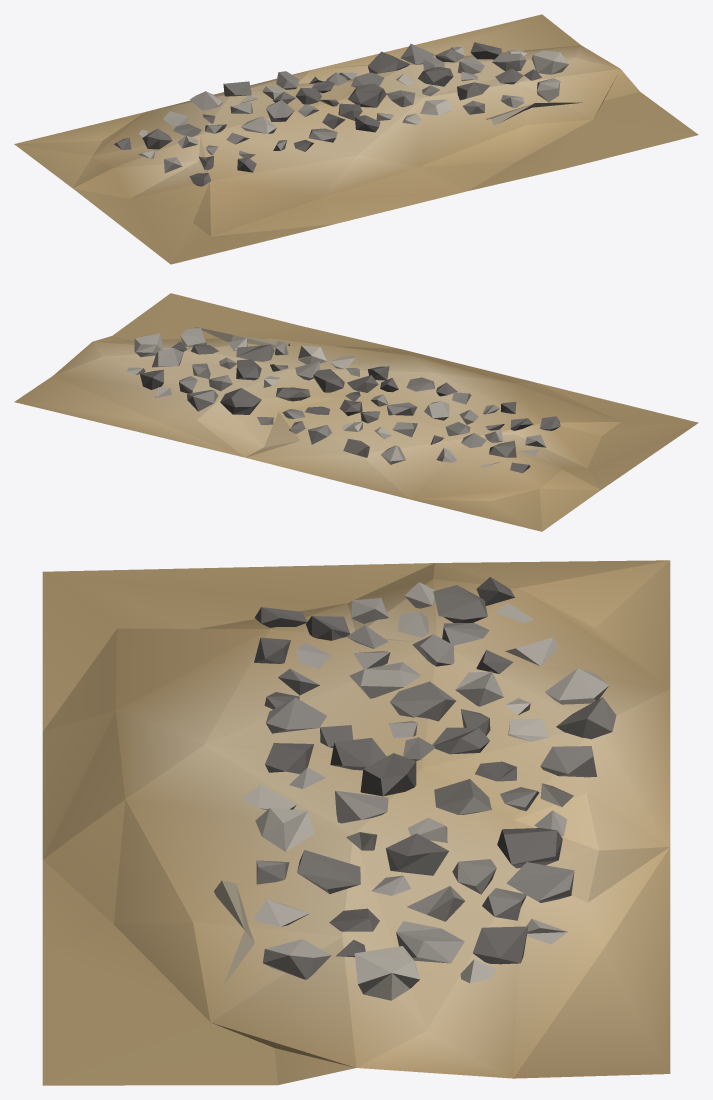
Rendered from river_shoal-lod1.glb.
3 renders of one model, top to bottom at view 1: azimuth 30°, elevation 25°; view 2: azimuth 150°, elevation 25°; view 3: azimuth 270°, elevation 25°, orthographic. The views are drawn at different scales.
Parts seen in each view (by area): view 1: river_shoal; view 2: river_shoal; view 3: river_shoal.
Part boxes in pixels (x1,y1,x2,y2): river_shoal: (14, 14, 698, 264); river_shoal: (14, 293, 698, 531); river_shoal: (42, 560, 670, 1085).
Bounding box in the file's own units: 8.4 × 0.6511 × 4.32.
